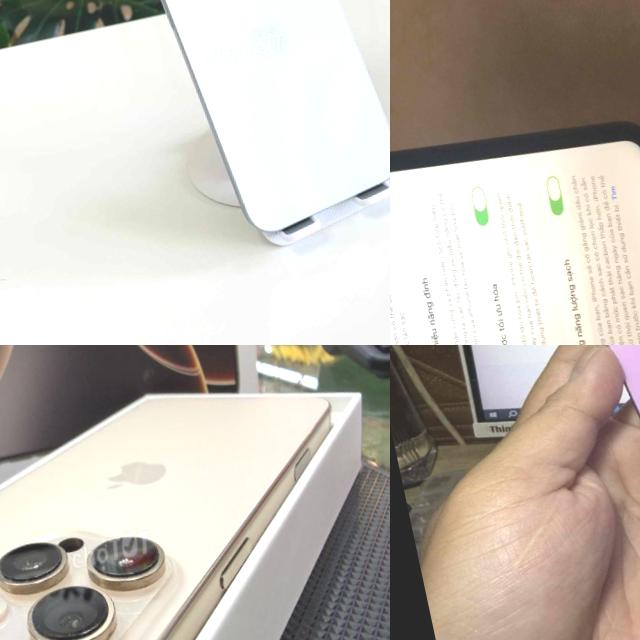gen_11: (390, 67, 640, 345)
gen_15: (107, 0, 390, 247)
gen_16: (0, 355, 387, 640), (536, 345, 640, 575)
